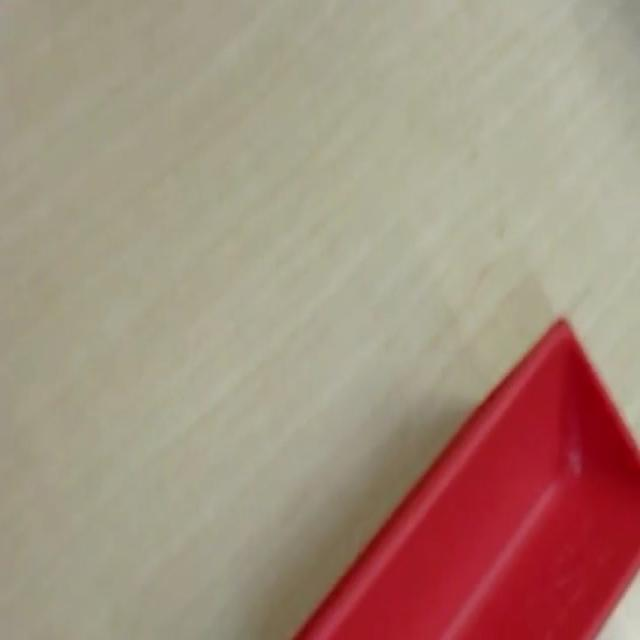red_block: (291, 314, 638, 638)
